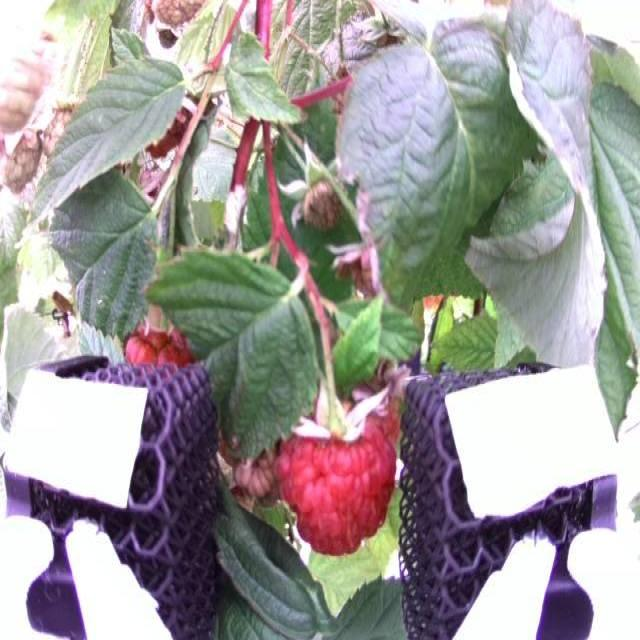Riped berries: (275, 409, 397, 553), (120, 316, 188, 374)
